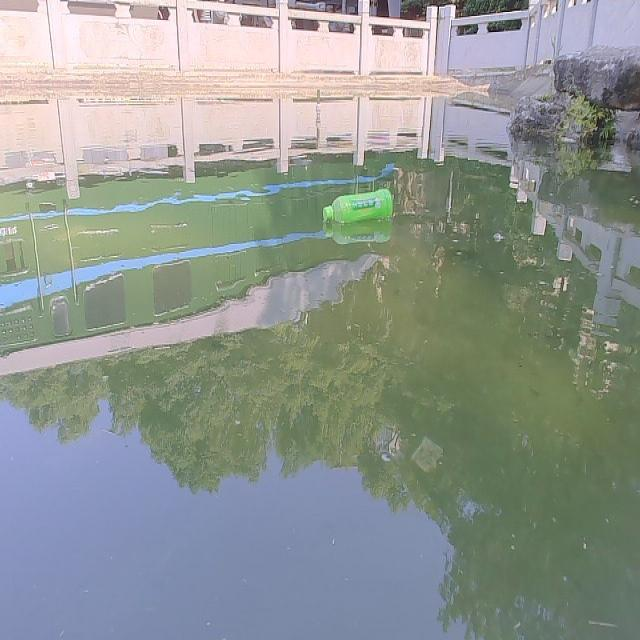Bottle: (319, 185, 395, 224)
